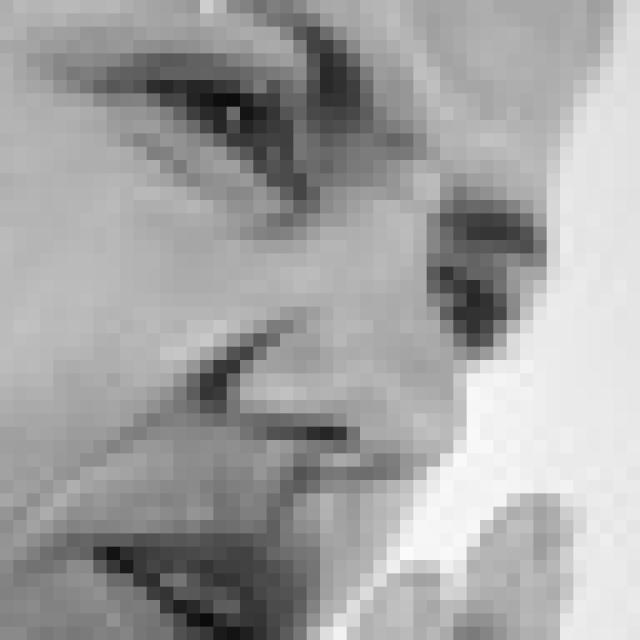disgust: (28, 1, 550, 640)
